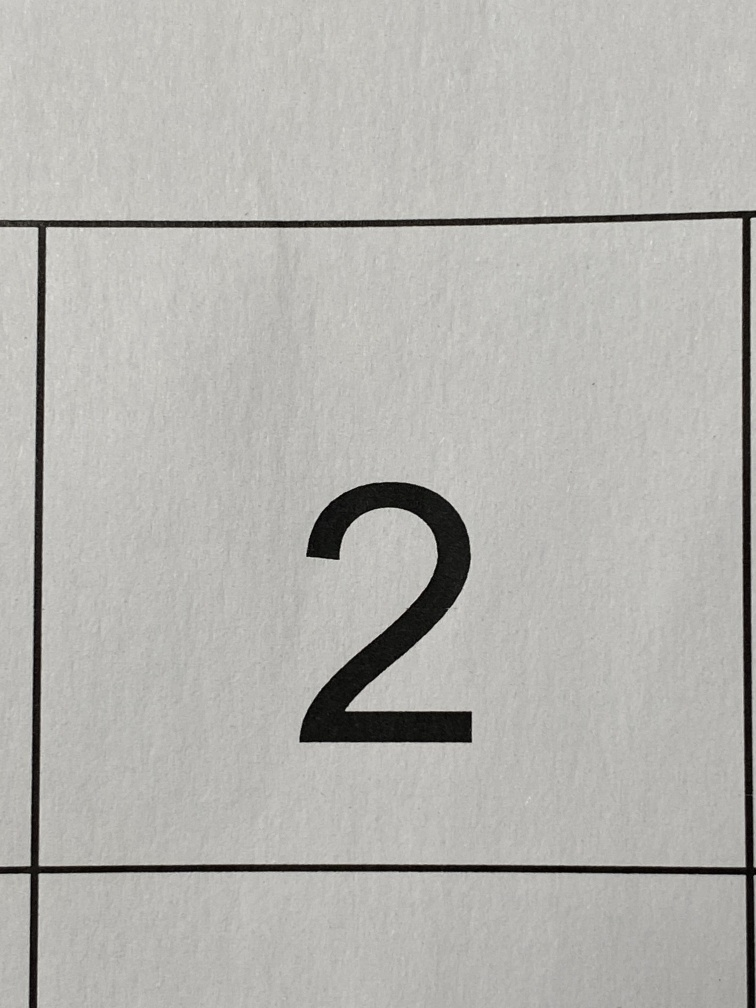two: (250, 422, 533, 820)
